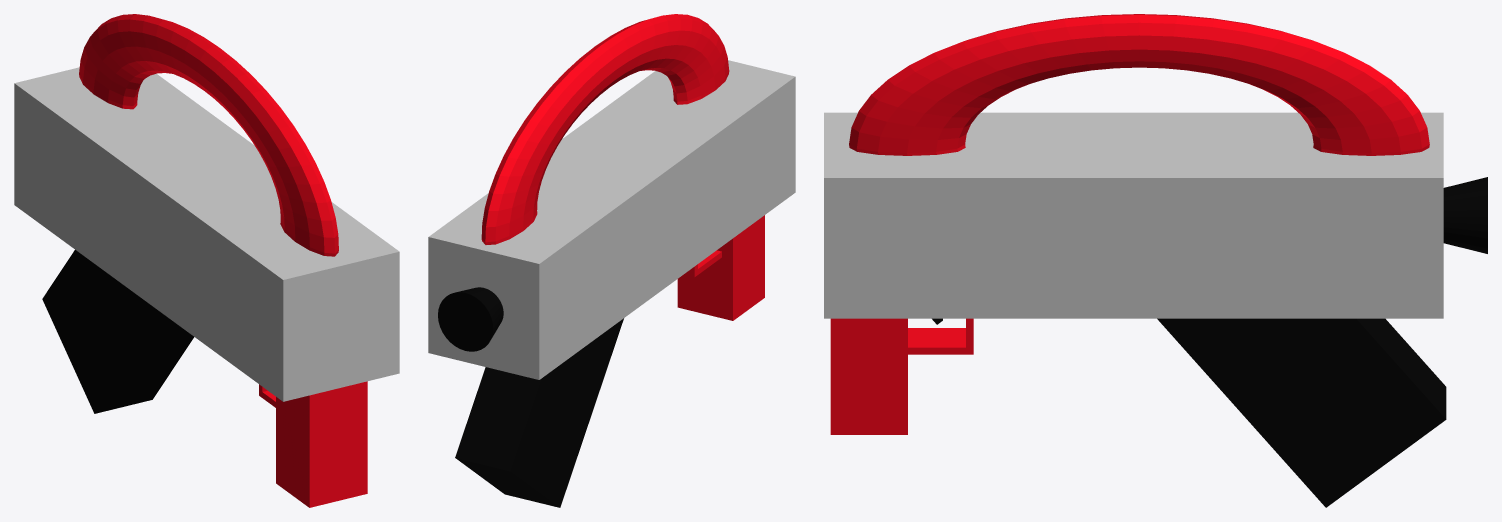
The model's file is weapon1.glb.
3 views of the same model, side by side, from view 1: azimuth 30°, elevation 25°; view 2: azimuth 150°, elevation 25°; view 3: azimuth 270°, elevation 25° (orthographic). The views are drawn at different scales.
Visible parts, largest first — view 1: Cube, Torus, Cube.001, Cube.002; view 2: Cube, Torus, Cube.001, Cube.002, Cone; view 3: Cube, Torus, Cube.001, Cube.002, Cone, Cube.005.
Boxes of the visible parts, left/top/right/bottom form: Cube: left=14, top=67, right=399, bottom=401; Torus: left=79, top=14, right=338, bottom=256; Cube.001: left=42, top=250, right=193, bottom=413; Cube.002: left=276, top=381, right=367, bottom=507; Cube: left=428, top=60, right=795, bottom=379; Torus: left=481, top=14, right=729, bottom=244; Cube.001: left=455, top=318, right=623, bottom=507; Cube.002: left=677, top=215, right=764, bottom=320; Cone: left=438, top=287, right=503, bottom=351; Cube: left=824, top=112, right=1443, bottom=318; Torus: left=849, top=14, right=1429, bottom=155; Cube.001: left=1157, top=318, right=1446, bottom=507; Cube.002: left=830, top=318, right=907, bottom=434; Cone: left=1443, top=177, right=1487, bottom=253; Cube.005: left=908, top=328, right=973, bottom=354.
Size of the model in its own units: 0.02 by 0.0686 by 0.0857.
